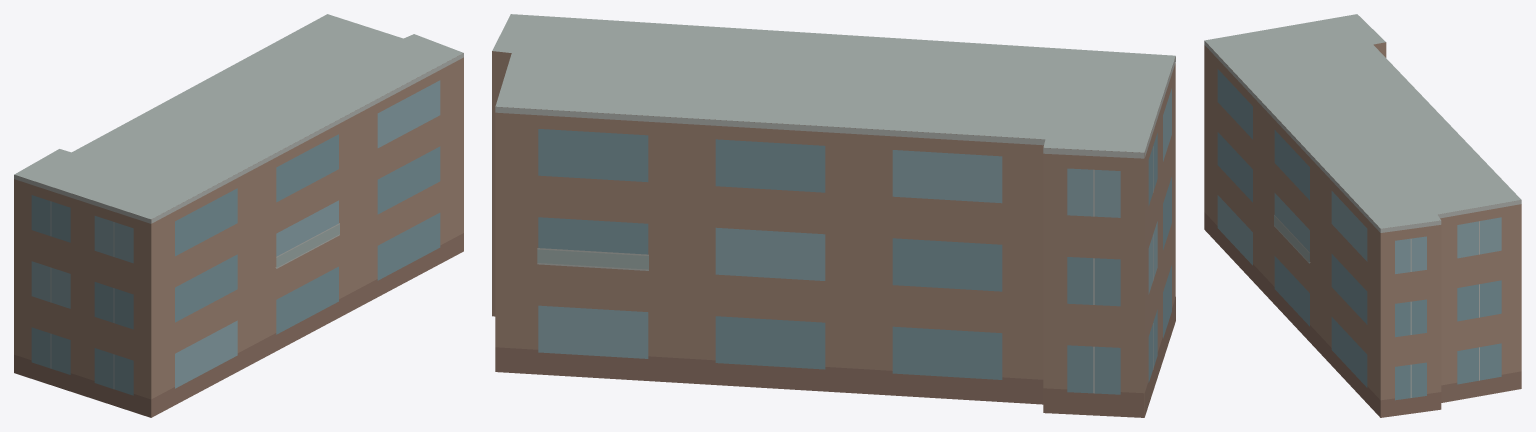
The model's file is survey-upis-32594149.glb.
3 views of the same model, side by side, from view 1: azimuth 30°, elevation 25°; view 2: azimuth 150°, elevation 25°; view 3: azimuth 270°, elevation 25° (orthographic). The views are drawn at different scales.
Visible parts, largest first — view 1: survey-upis-32594149.tmp; view 2: survey-upis-32594149.tmp; view 3: survey-upis-32594149.tmp.
Part boxes in pixels (bbox=[...]): survey-upis-32594149.tmp: bbox=[14, 14, 463, 417]; survey-upis-32594149.tmp: bbox=[492, 14, 1175, 417]; survey-upis-32594149.tmp: bbox=[1204, 14, 1521, 417].
Size of the model in its own units: 26.32 by 10.8 by 16.43.
